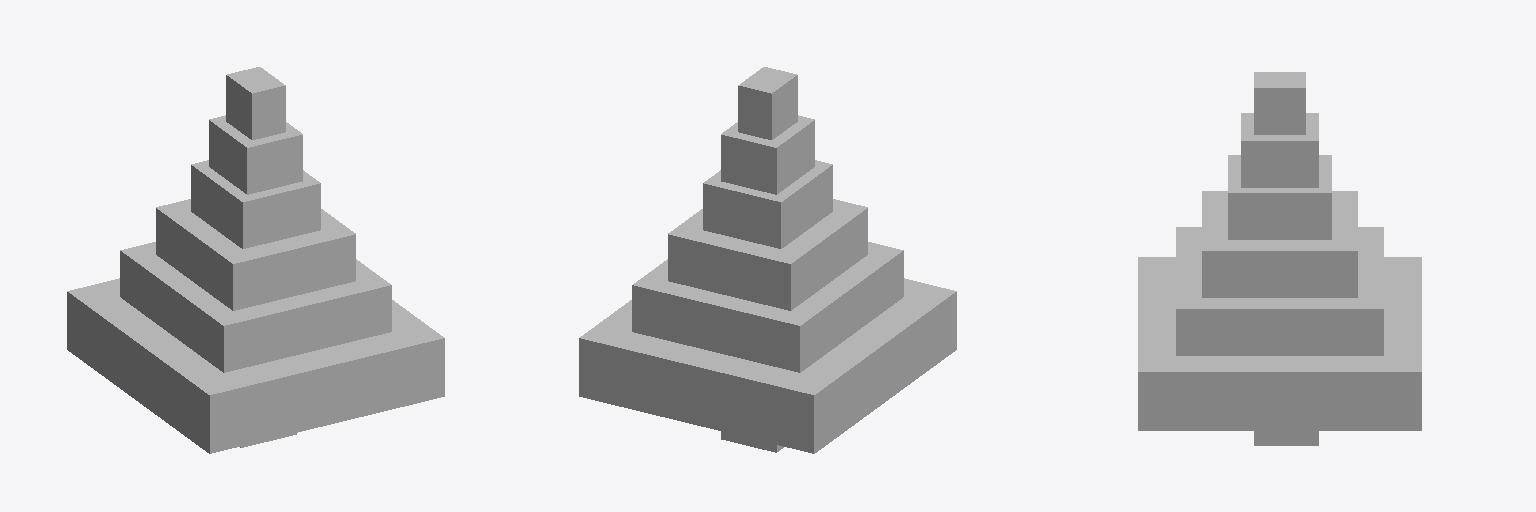
Rendered from tree3.obj.
3 renders of one model, left to right at view 1: azimuth 30°, elevation 25°; view 2: azimuth 150°, elevation 25°; view 3: azimuth 270°, elevation 25°, orthographic.
Parts seen in each view (by area): view 1: object 1; view 2: object 1; view 3: object 1.
Part boxes in pixels (left/top/right/bottom): object 1: left=67, top=67, right=444, bottom=453; object 1: left=579, top=67, right=956, bottom=453; object 1: left=1138, top=72, right=1421, bottom=445.
Bounding box in the file's own units: 2.1 × 3 × 2.2.